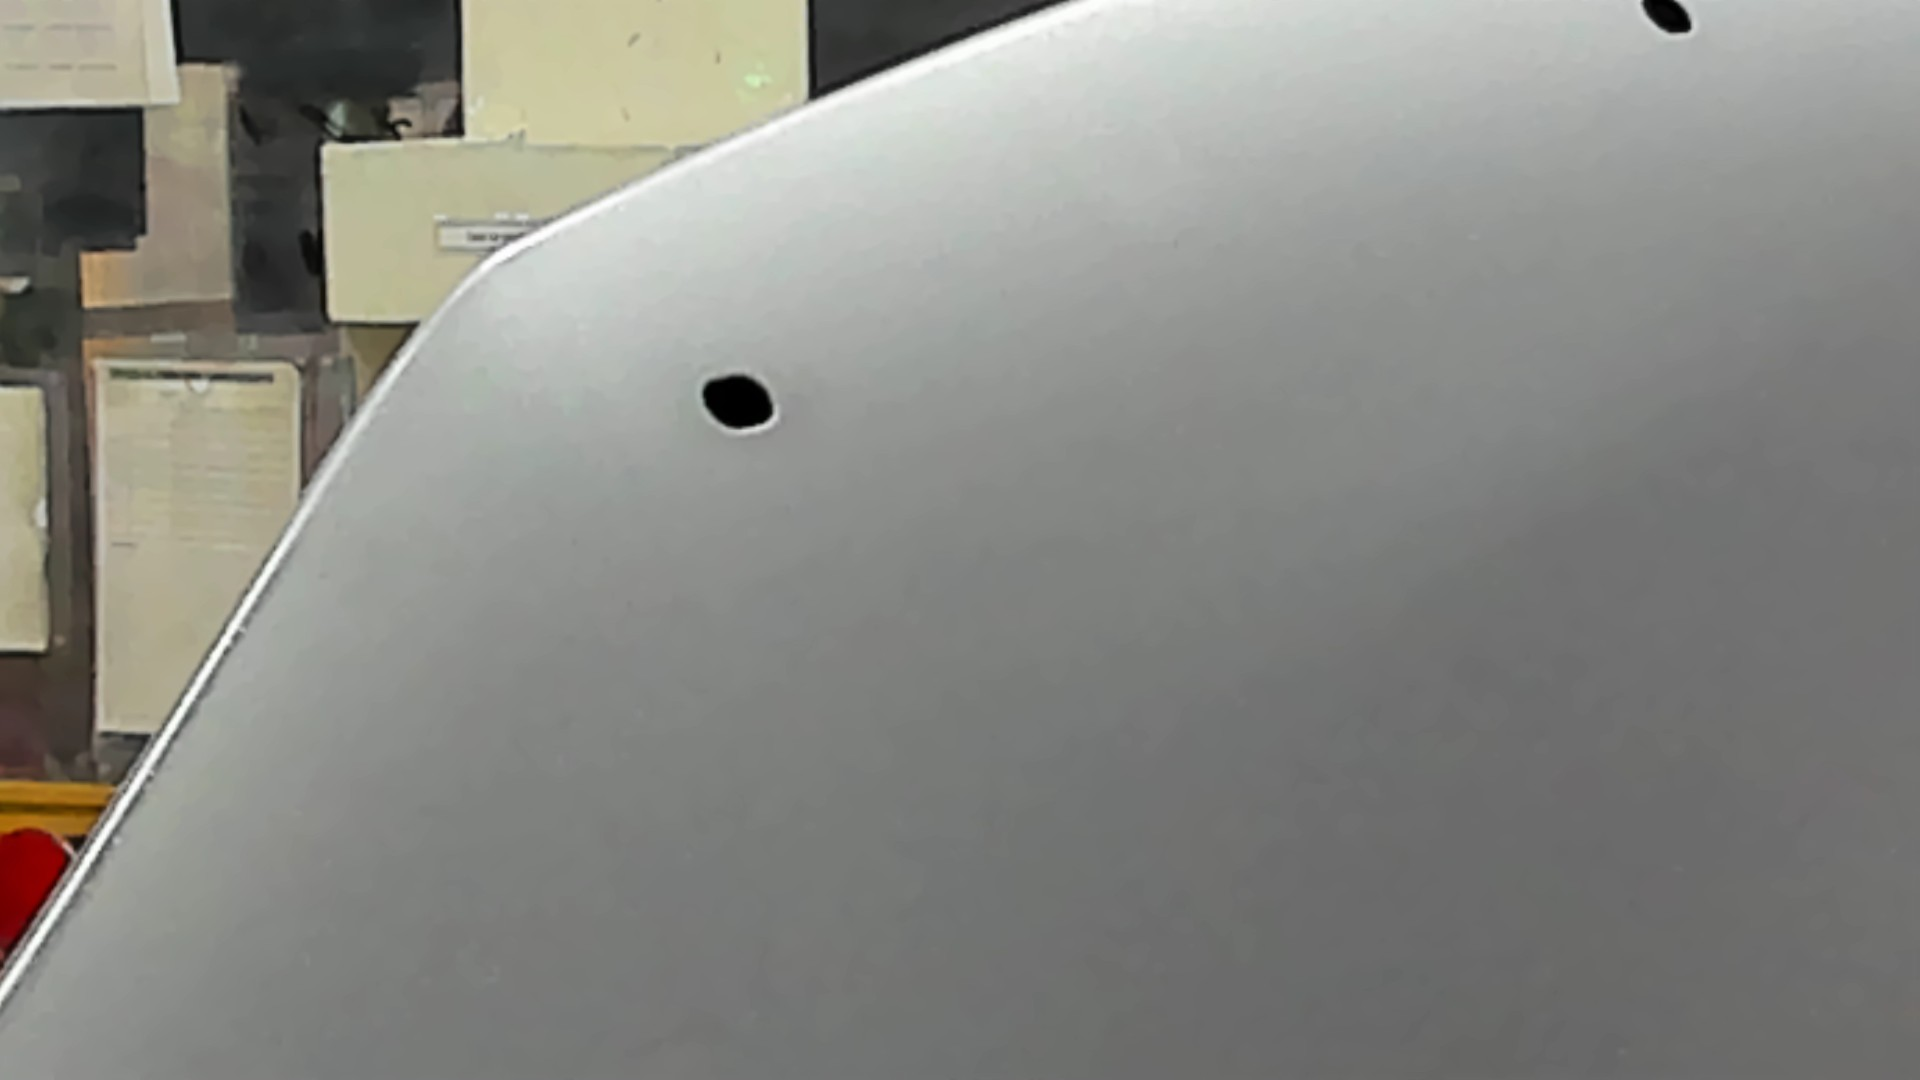chico: (695, 371, 782, 444), (1627, 1, 1705, 46)
